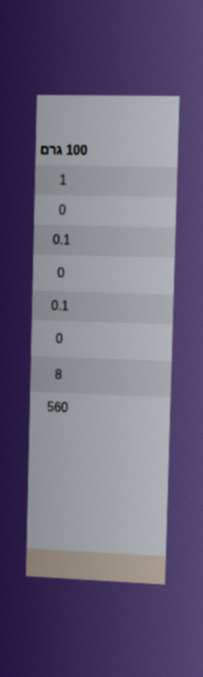carbs: (49, 297, 71, 315)
energy: (57, 171, 68, 189)
fat: (51, 231, 72, 249)
protein: (57, 201, 68, 219)
